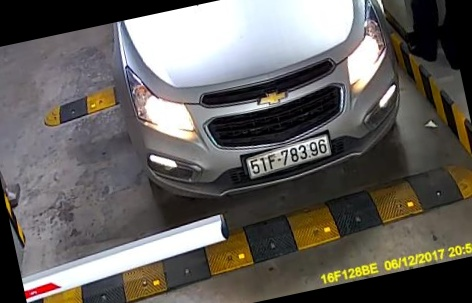plate: (247, 134, 339, 188)
